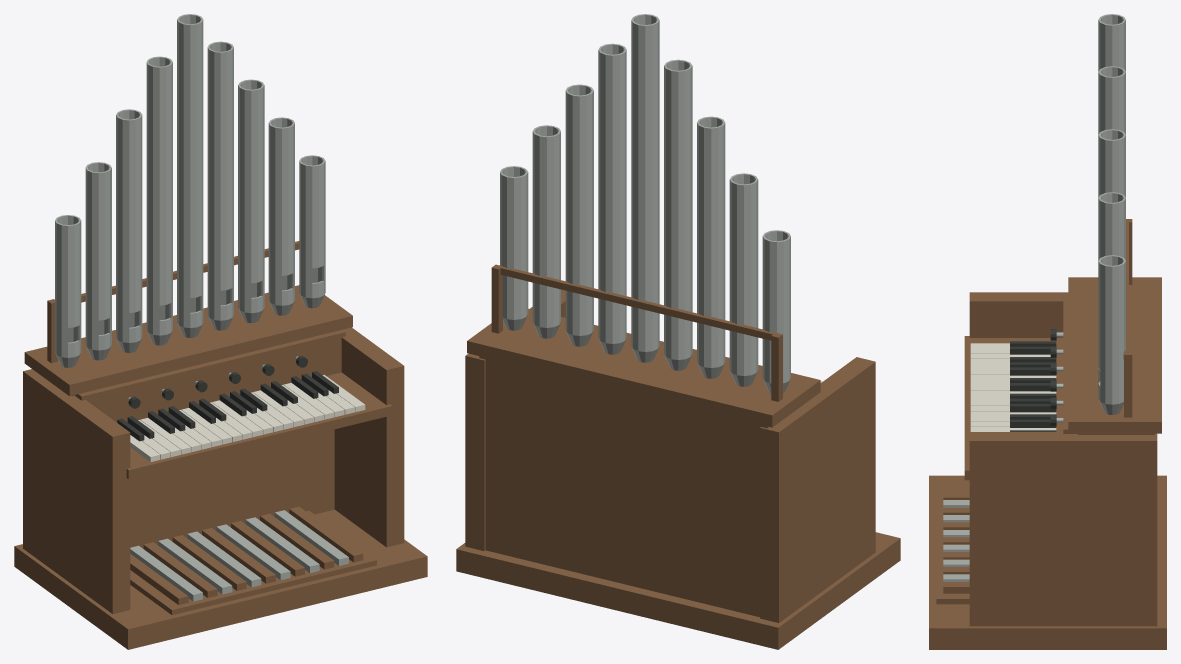
3 renders of one model, left to right at view 1: azimuth 30°, elevation 25°; view 2: azimuth 150°, elevation 25°; view 3: azimuth 270°, elevation 25°, orthographic. The views are drawn at different scales.
Visible parts, largest first — view 1: WholeConsoleSideStile-1, WholeRearWindChest, WholeGroundPlinth, WholeConsoleSideStile1, WholePipeChestTop, WholeManualRearStopPanel, WholeFootedOpenMouthPipe_04, WholeFootedOpenMouthPipe_03, WholeFootedOpenMouthPipe_05, WholeFootedOpenMouthPipe_02, WholeFootedOpenMouthPipe_06, WholeFootedOpenMouthPipe_01 (+18 smaller); view 2: WholeRearWindChest, WholeConsoleSideStile-1, WholePipeChestTop, WholeGroundPlinth, WholeFootedOpenMouthPipe_04, WholeFootedOpenMouthPipe_05, WholeFootedOpenMouthPipe_03, WholeFootedOpenMouthPipe_06, WholeFootedOpenMouthPipe_02, WholeFootedOpenMouthPipe_01, WholeFootedOpenMouthPipe_07, WholeFootedOpenMouthPipe_08 (+5 smaller); view 3: WholeConsoleSideStile1, WholePipeChestTop, WholeGroundPlinth, WholeConsoleSideStile-1, WholeFootedOpenMouthPipe_08, WholeManualKeyBed, WholeFootedOpenMouthPipe_07, WholeFootedOpenMouthPipe_05, WholeFootedOpenMouthPipe_06, WholeFootedOpenMouthPipe_04, WholePedalBed, WholeManualRearStopPanel (+11 smaller).
Part boxes in pixels (x1,y1,x2,y2): WholeConsoleSideStile-1: [23, 369, 130, 613]; WholeRearWindChest: [72, 395, 334, 548]; WholeGroundPlinth: [14, 509, 427, 649]; WholeConsoleSideStile1: [334, 327, 404, 547]; WholePipeChestTop: [24, 285, 352, 396]; WholeManualRearStopPanel: [75, 330, 345, 422]; WholeFootedOpenMouthPipe_04: [177, 14, 203, 337]; WholeFootedOpenMouthPipe_03: [146, 56, 172, 345]; WholeFootedOpenMouthPipe_05: [207, 41, 233, 330]; WholeFootedOpenMouthPipe_02: [116, 109, 142, 352]; WholeFootedOpenMouthPipe_06: [238, 79, 264, 323]; WholeFootedOpenMouthPipe_01: [85, 162, 111, 360]; WholeRearWindChest: [479, 356, 768, 617]; WholeConsoleSideStile-1: [760, 357, 875, 622]; WholePipeChestTop: [467, 309, 820, 427]; WholeGroundPlinth: [456, 532, 900, 649]; WholeFootedOpenMouthPipe_04: [631, 14, 659, 362]; WholeFootedOpenMouthPipe_05: [598, 43, 626, 354]; WholeFootedOpenMouthPipe_03: [664, 59, 692, 370]; WholeFootedOpenMouthPipe_06: [565, 84, 593, 346]; WholeFootedOpenMouthPipe_02: [697, 116, 725, 378]; WholeFootedOpenMouthPipe_01: [729, 173, 758, 386]; WholeFootedOpenMouthPipe_07: [532, 125, 560, 338]; WholeFootedOpenMouthPipe_08: [500, 166, 528, 330]; WholeConsoleSideStile1: [969, 432, 1157, 626]; WholePipeChestTop: [1068, 277, 1161, 433]; WholeGroundPlinth: [929, 475, 1166, 649]; WholeConsoleSideStile-1: [969, 292, 1068, 337]; WholeFootedOpenMouthPipe_08: [1098, 255, 1125, 414]; WholeManualKeyBed: [964, 336, 1063, 480]; WholeFootedOpenMouthPipe_07: [1098, 192, 1125, 383]; WholeFootedOpenMouthPipe_05: [1098, 66, 1125, 134]; WholeFootedOpenMouthPipe_06: [1098, 129, 1125, 197]; WholeFootedOpenMouthPipe_04: [1098, 14, 1125, 71]; WholePedalBed: [936, 494, 969, 604]; WholeManualRearStopPanel: [1063, 295, 1076, 433].
Bounding box in the file's own units: 1.52 × 2.57 × 1.
